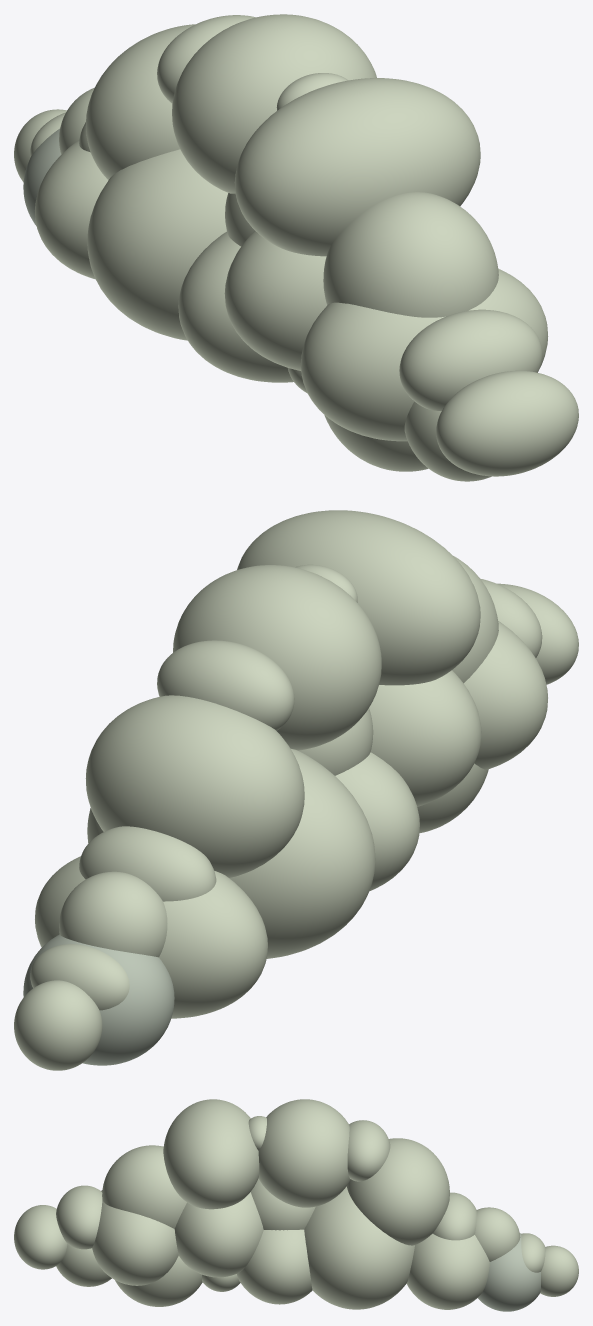
Rendered from cloud.fbx.
The picture shows the model from 3 angles, top to bottom: view 1: azimuth 30°, elevation 25°; view 2: azimuth 150°, elevation 25°; view 3: azimuth 270°, elevation 25°; orthographic projection. The views are drawn at different scales.
Visible parts, largest first — view 1: Sphere.008, Sphere.013, Sphere.016, Sphere.005, Sphere.004, Sphere, Sphere.010, Sphere.001, Sphere.018, Sphere.015, Sphere.023, Sphere.017 (+7 smaller); view 2: Sphere.018, Sphere.008, Sphere.013, Sphere.016, Sphere.023, Sphere.010, Sphere.017, Sphere.004, Sphere.020, Sphere.024, Sphere.019, Sphere.021 (+7 smaller); view 3: Sphere.016, Sphere.008, Sphere.013, Sphere.018, Sphere.010, Sphere.004, Sphere.023, Sphere.005, Sphere.015, Sphere.024, Sphere, Sphere.001 (+10 smaller).
Boxes of the visible parts, x1,y1,x2,y2 form: Sphere.008: (234, 78, 480, 256); Sphere.013: (172, 14, 376, 193); Sphere.016: (87, 149, 227, 340); Sphere.005: (323, 192, 498, 317); Sphere.004: (301, 269, 548, 441); Sphere: (436, 370, 578, 476); Sphere.010: (224, 231, 326, 370); Sphere.001: (399, 309, 542, 410); Sphere.018: (85, 24, 195, 180); Sphere.015: (178, 231, 293, 382); Sphere.023: (35, 140, 108, 279); Sphere.017: (157, 15, 255, 103); Sphere.018: (85, 695, 304, 877); Sphere.008: (237, 510, 480, 685); Sphere.013: (173, 565, 381, 750); Sphere.016: (87, 749, 375, 958); Sphere.023: (35, 856, 267, 1018); Sphere.010: (369, 670, 481, 806); Sphere.017: (157, 640, 294, 730); Sphere.004: (464, 621, 547, 769); Sphere.020: (59, 871, 167, 957); Sphere.024: (23, 934, 174, 1065); Sphere.019: (79, 826, 216, 901); Sphere.021: (14, 980, 102, 1070); Sphere.016: (304, 1186, 414, 1309); Sphere.008: (163, 1099, 259, 1209); Sphere.013: (258, 1099, 350, 1207); Sphere.018: (346, 1138, 449, 1245); Sphere.010: (174, 1192, 263, 1277); Sphere.004: (92, 1190, 178, 1285); Sphere.023: (406, 1233, 489, 1309); Sphere.005: (102, 1145, 186, 1228); Sphere.015: (237, 1229, 312, 1304); Sphere.024: (478, 1233, 540, 1311); Sphere: (14, 1205, 67, 1269); Sphere.001: (56, 1185, 102, 1249).
Bounding box in the file's own units: 134 × 171 × 435.
